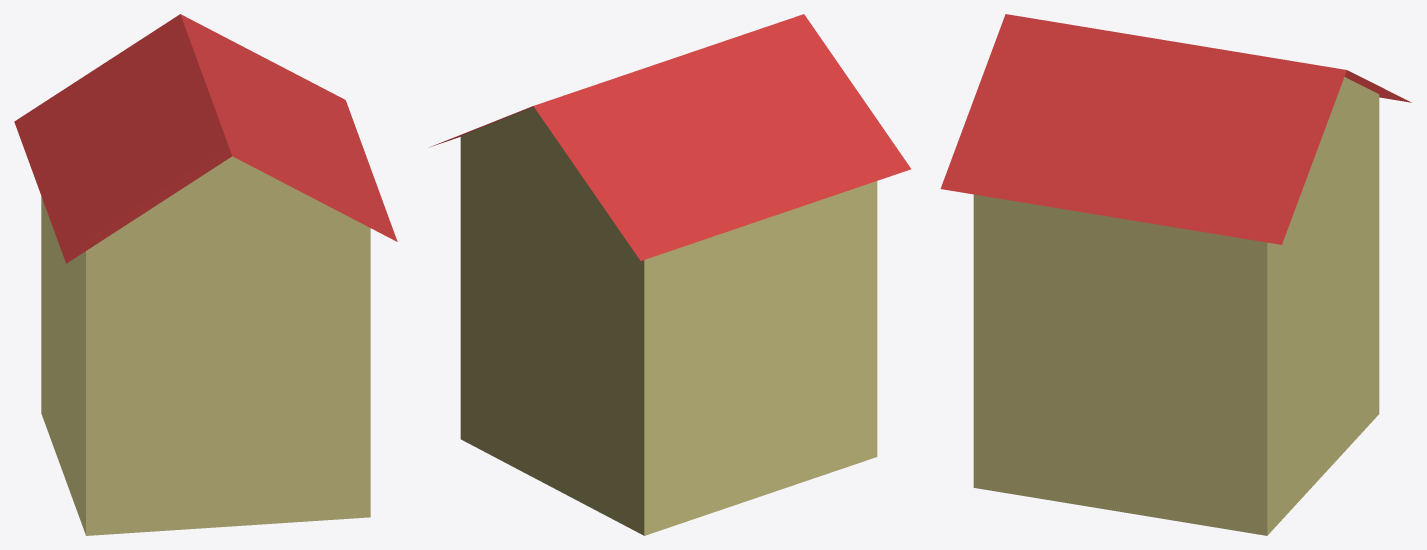
3 renders of one model, left to right at view 1: azimuth 30°, elevation 25°; view 2: azimuth 150°, elevation 25°; view 3: azimuth 270°, elevation 25°, orthographic. The views are drawn at different scales.
Size of the model in its own units: 9.15 by 9.21 by 8.81.
